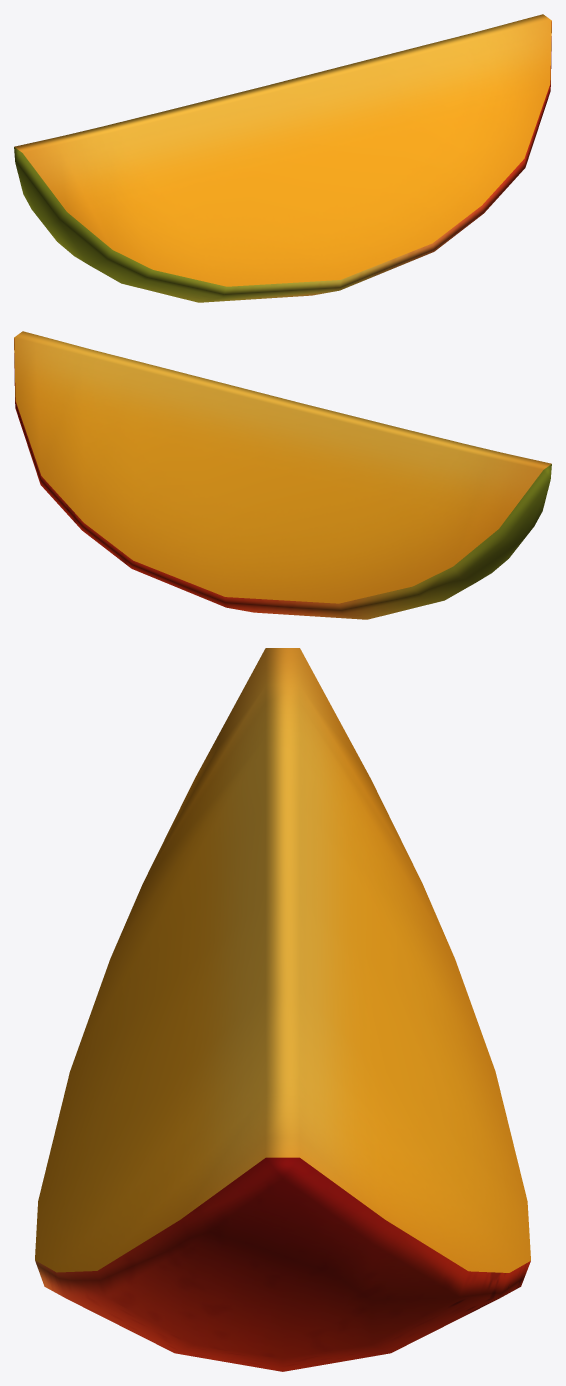
Rendered from Mango_Red_Slice.fbx.
3 renders of one model, top to bottom at view 1: azimuth 30°, elevation 25°; view 2: azimuth 150°, elevation 25°; view 3: azimuth 270°, elevation 25°, orthographic. The views are drawn at different scales.
Parts seen in each view (by area): view 1: Mango_Red_Slice; view 2: Mango_Red_Slice; view 3: Mango_Red_Slice.
Boxes of the visible parts, x1,y1,x2,y2 form: Mango_Red_Slice: [14, 14, 551, 302]; Mango_Red_Slice: [14, 331, 551, 619]; Mango_Red_Slice: [35, 648, 530, 1371].
Bounding box in the file's own units: 44.49 × 16.06 × 17.81.
